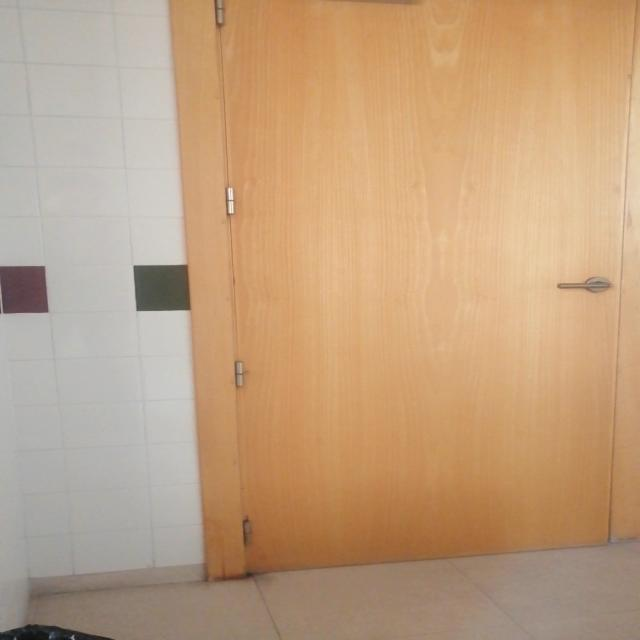door_handle: (552, 281, 616, 290)
